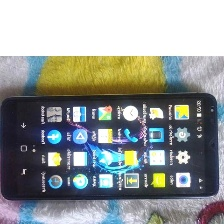phone: (0, 86, 221, 207)
